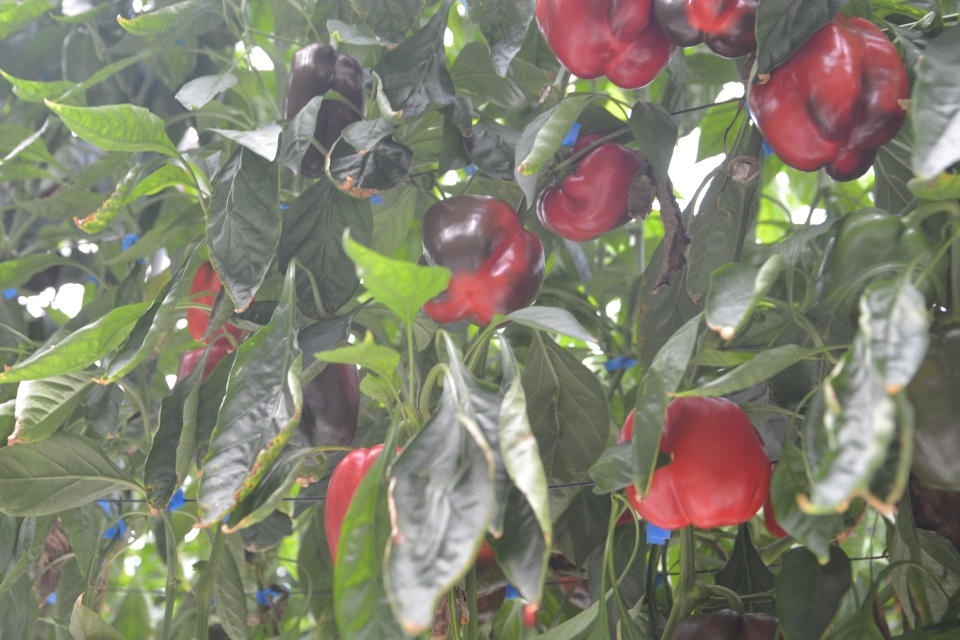fruit: (742, 8, 911, 184), (616, 391, 772, 532), (413, 193, 547, 332), (816, 204, 953, 338), (532, 0, 677, 92), (535, 128, 649, 244), (281, 41, 365, 181), (326, 442, 404, 568), (289, 343, 362, 460), (650, 0, 758, 60), (186, 259, 256, 348), (668, 608, 780, 640), (172, 343, 228, 390)
pedicle: (553, 156, 576, 188)
